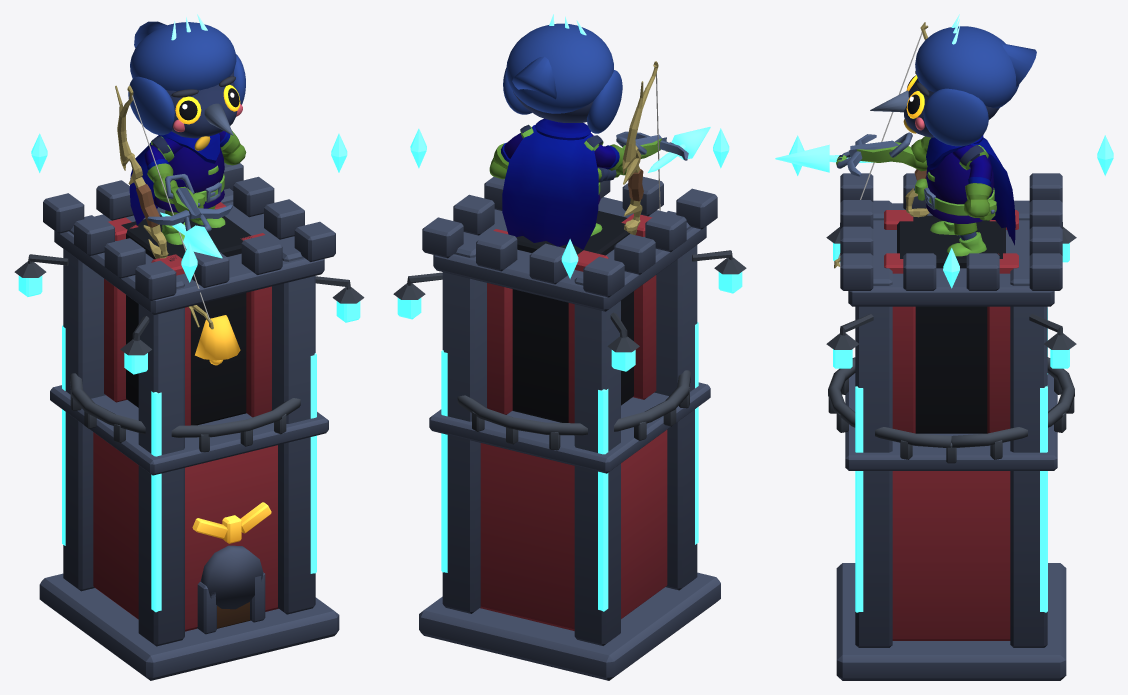
The model's file is tower_falcon_tempest.glb.
3 views of the same model, side by side, from view 1: azimuth 30°, elevation 25°; view 2: azimuth 150°, elevation 25°; view 3: azimuth 270°, elevation 25° (orthographic). The views are drawn at different scales.
Parts seen in each view (by area): view 1: CustomTowerBase_falcon_tempest, NativeHat_RvHoodTop, Rogue_Body, Bow_Golden, NativeHat_RvHoodFlap_-1, 1H_Crossbow, RvHead, Rogue_ArmRight, Rogue_Cape, RavenLightningTip, Rogue_ArmLeft; view 2: CustomTowerBase_falcon_tempest, Rogue_Cape, NativeHat_RvHoodTop, Bow_Golden, NativeHat_RvHoodFlap_-1, 1H_Crossbow, NativeHat_RvHoodPeak, Rogue_Body, Rogue_ArmRight, Rogue_ArmLeft, RvHead, RavenLightningTip; view 3: CustomTowerBase_falcon_tempest, NativeHat_RvHoodTop, Rogue_Body, NativeHat_RvHoodFlap_1, 1H_Crossbow, Rogue_ArmLeft, Rogue_Cape, Rogue_LegLeft, Bow_Golden, RavenLightningTip, NativeHat_RvHoodPeak, RvHead.
Part boxes in pixels (bbox=[...]): CustomTowerBase_falcon_tempest: bbox=[14, 163, 364, 680]; NativeHat_RvHoodTop: bbox=[130, 22, 236, 91]; Rogue_Body: bbox=[154, 131, 224, 212]; Bow_Golden: bbox=[115, 85, 213, 329]; NativeHat_RvHoodFlap_-1: bbox=[128, 76, 174, 135]; 1H_Crossbow: bbox=[147, 174, 232, 231]; RvHead: bbox=[166, 71, 237, 138]; Rogue_ArmRight: bbox=[144, 136, 183, 199]; Rogue_Cape: bbox=[129, 135, 167, 225]; RavenLightningTip: bbox=[183, 225, 222, 258]; Rogue_ArmLeft: bbox=[219, 131, 246, 165]; CustomTowerBase_falcon_tempest: bbox=[393, 176, 746, 680]; Rogue_Cape: bbox=[502, 125, 598, 249]; NativeHat_RvHoodTop: bbox=[506, 23, 613, 113]; Bow_Golden: bbox=[622, 61, 660, 234]; NativeHat_RvHoodFlap_-1: bbox=[587, 70, 622, 133]; 1H_Crossbow: bbox=[597, 131, 688, 182]; NativeHat_RvHoodPeak: bbox=[512, 56, 556, 99]; Rogue_Body: bbox=[535, 118, 600, 204]; Rogue_ArmRight: bbox=[584, 133, 627, 175]; Rogue_ArmLeft: bbox=[489, 124, 533, 179]; RvHead: bbox=[513, 91, 593, 122]; RavenLightningTip: bbox=[671, 127, 710, 159]; CustomTowerBase_falcon_tempest: bbox=[826, 173, 1076, 680]; NativeHat_RvHoodTop: bbox=[915, 26, 1019, 108]; Rogue_Body: bbox=[914, 135, 996, 223]; NativeHat_RvHoodFlap_1: bbox=[923, 88, 988, 146]; 1H_Crossbow: bbox=[836, 132, 927, 176]; Rogue_ArmLeft: bbox=[952, 145, 992, 217]; Rogue_Cape: bbox=[971, 137, 1015, 245]; Rogue_LegLeft: bbox=[947, 222, 986, 256]; Bow_Golden: bbox=[834, 22, 929, 268]; RavenLightningTip: bbox=[775, 144, 829, 172]; NativeHat_RvHoodPeak: bbox=[1002, 43, 1036, 86]; RvHead: bbox=[904, 78, 999, 137].
Bounding box in the file's own units: 1.14 × 2.37 × 1.18.
Materials: 19 (3 with a texture image).
